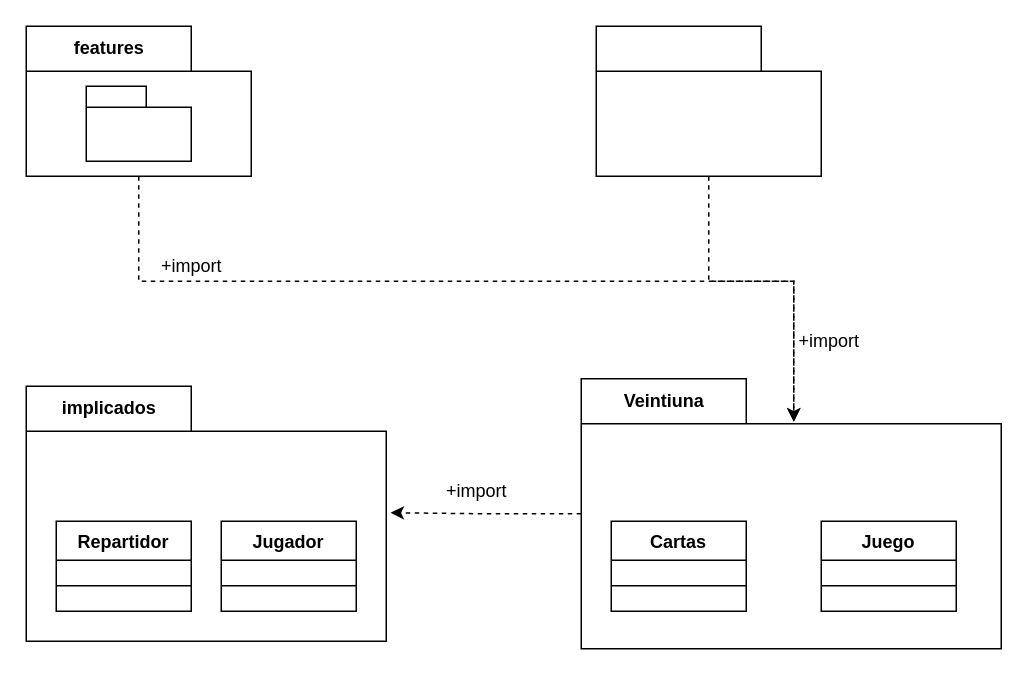
This 1028x675 diagram has some shape labels left out. Here are the shapes that lost their labels. From the top down, the centre of each, then its label:
(x=708, y=100): test
(x=138, y=123): steps
